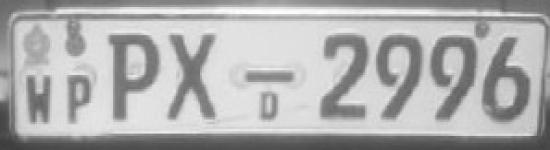-: (243, 63, 297, 84)
2: (316, 27, 372, 121)
6: (480, 33, 536, 129)
9: (425, 30, 483, 120), (372, 31, 426, 123)
P: (108, 27, 164, 121), (63, 69, 97, 128)
W: (22, 66, 58, 130)
X: (162, 31, 224, 123)
